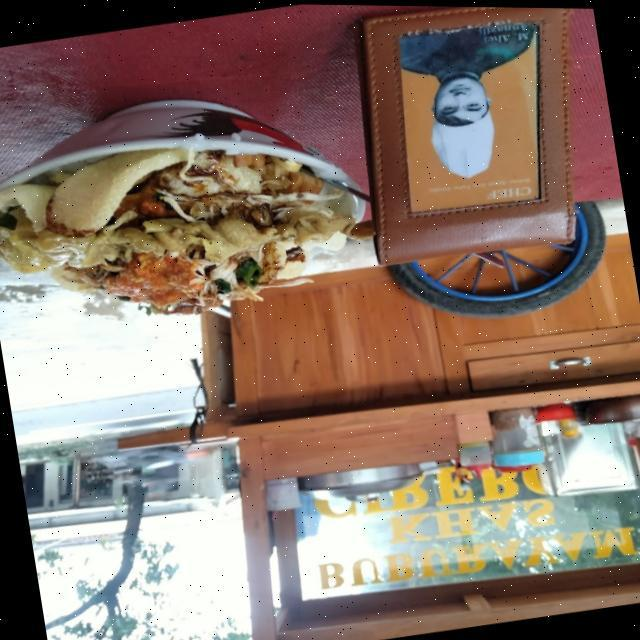bubur ayam: (0, 117, 353, 346)
mangkuk: (0, 65, 370, 263), (581, 388, 640, 428), (532, 399, 576, 424)
sambal: (100, 242, 204, 316)
